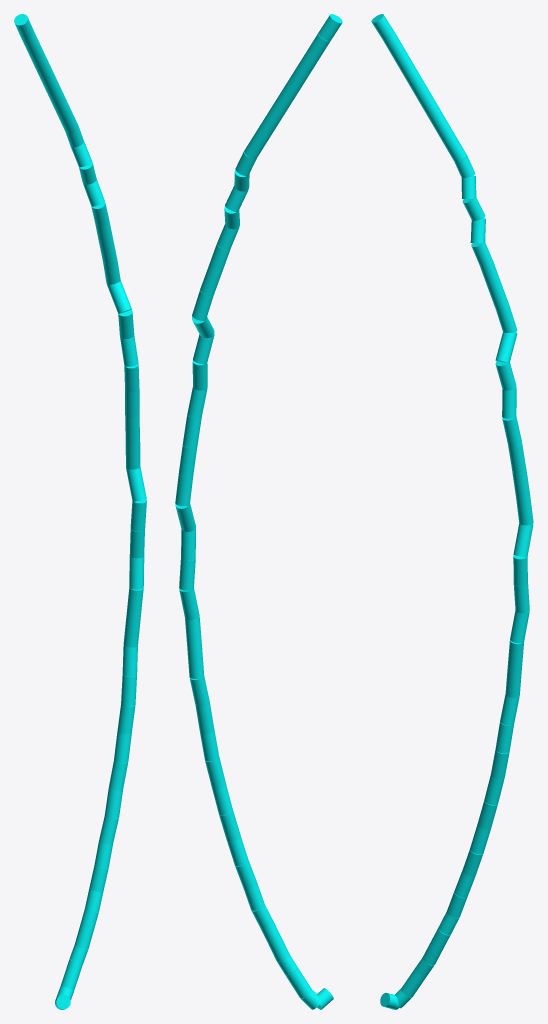
3 views of the same model, side by side, from view 1: azimuth 30°, elevation 25°; view 2: azimuth 150°, elevation 25°; view 3: azimuth 330°, elevation 25° (orthographic). The views are drawn at different scales.
Parts seen in each view (by area): view 1: Cylinder(Clone) (×26); view 2: Cylinder(Clone) (×23); view 3: Cylinder(Clone) (×19).
Part boxes in pixels (<box>): Cylinder(Clone) (×26): <box>14,14,146,990</box>; Cylinder(Clone) (×23): <box>175,14,342,998</box>; Cylinder(Clone) (×19): <box>383,33,533,854</box>.
Bounding box in the file's own units: 0.1138 × 0.7509 × 0.0607.
